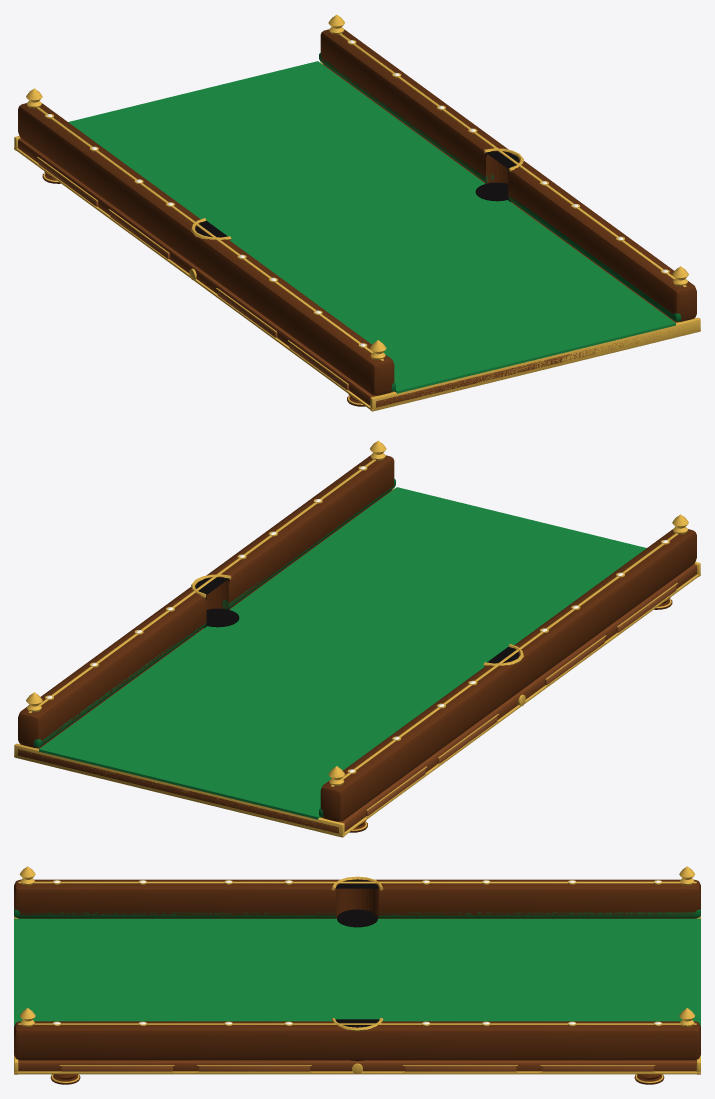
Rendered from TableSegment.fbx.
The picture shows the model from 3 angles, top to bottom: view 1: azimuth 30°, elevation 25°; view 2: azimuth 150°, elevation 25°; view 3: azimuth 270°, elevation 25°; orthographic projection. The views are drawn at different scales.
Visible parts, largest first — view 1: TableSegment; view 2: TableSegment; view 3: TableSegment.
Boxes of the visible parts, x1=… form: TableSegment: x1=14, y1=14, x2=700, y2=411; TableSegment: x1=14, y1=440, x2=700, y2=837; TableSegment: x1=14, y1=866, x2=700, y2=1084.
Bounding box in the file's own units: 4269 × 935 × 8000.
